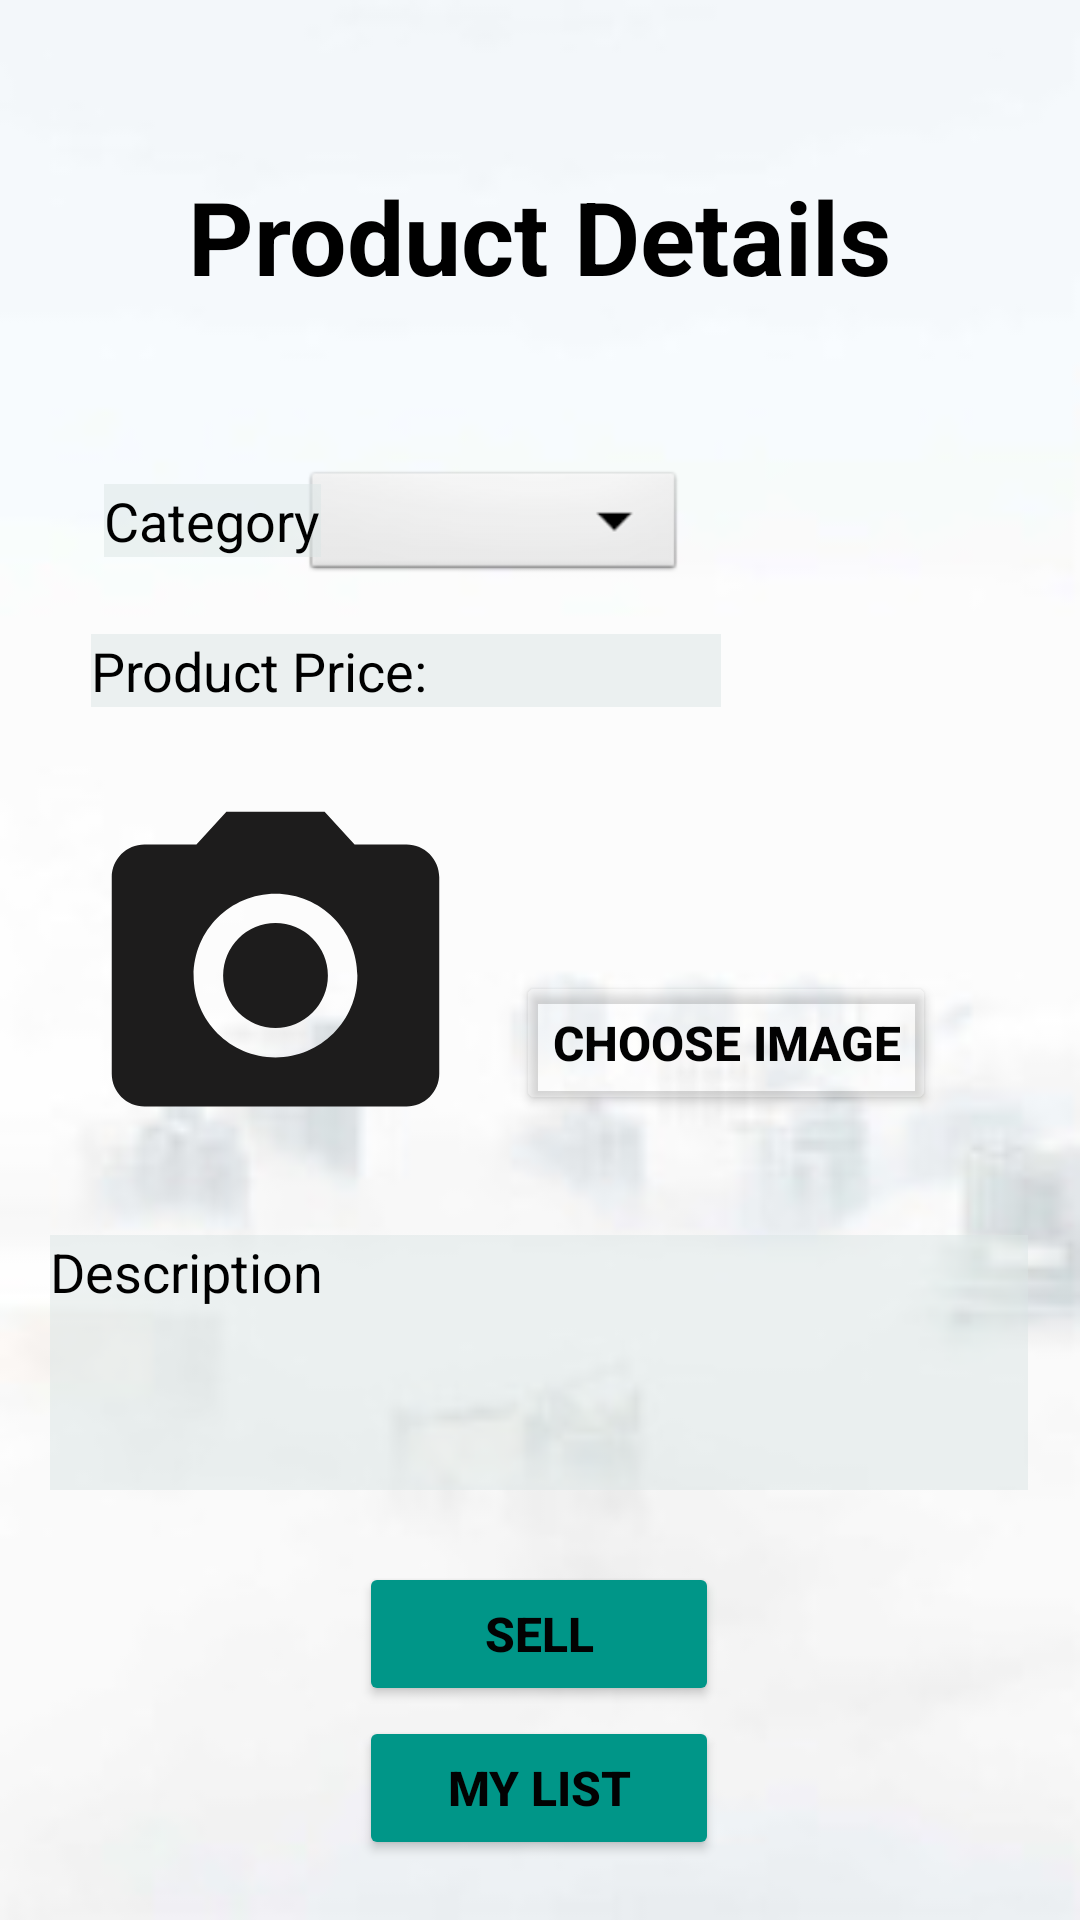

Named icons in this screenshot (1080px×1920px) and their centers, point (x, y):
photo camera: point (275, 990)
